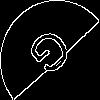G: (25, 25, 81, 86)
